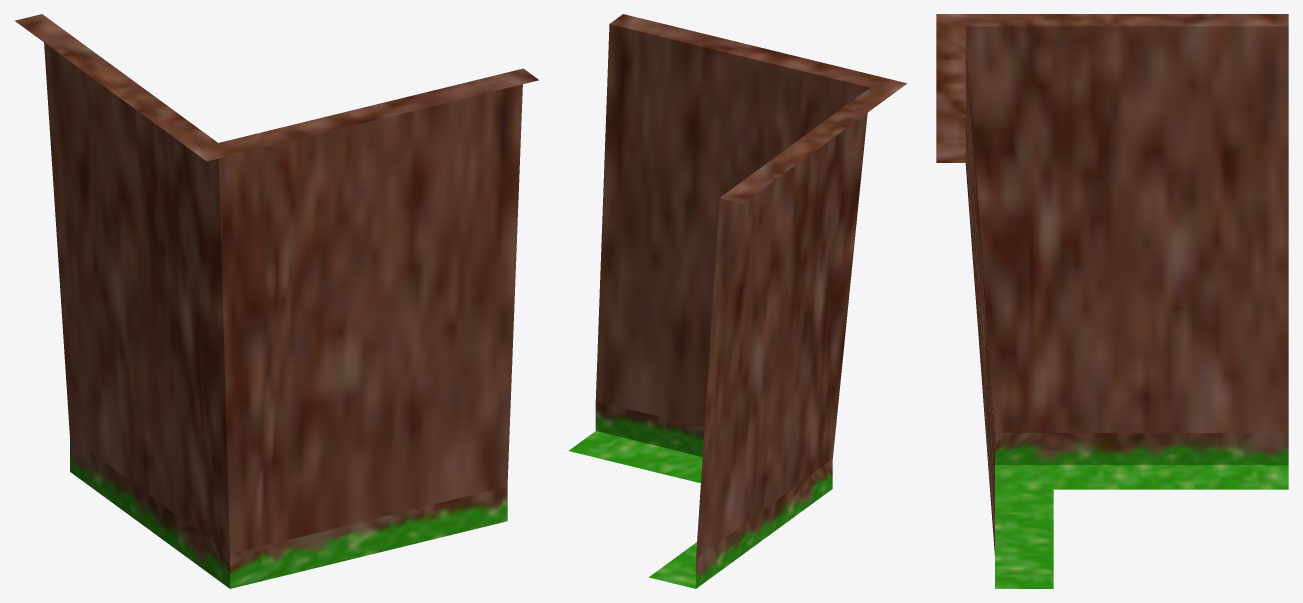
Rendered from mountain_13_GEO.fbx.
The picture shows the model from 3 angles, left to right: view 1: azimuth 30°, elevation 25°; view 2: azimuth 150°, elevation 25°; view 3: azimuth 270°, elevation 25°; orthographic projection. The views are drawn at different scales.
Parts seen in each view (by area): view 1: mountain_13_GEO; view 2: mountain_13_GEO; view 3: mountain_13_GEO.
Boxes of the visible parts, x1,y1,x2,y2 form: mountain_13_GEO: [15, 14, 538, 588]; mountain_13_GEO: [569, 14, 906, 588]; mountain_13_GEO: [936, 14, 1288, 588].
Size of the model in its own units: 15 by 20 by 15.
